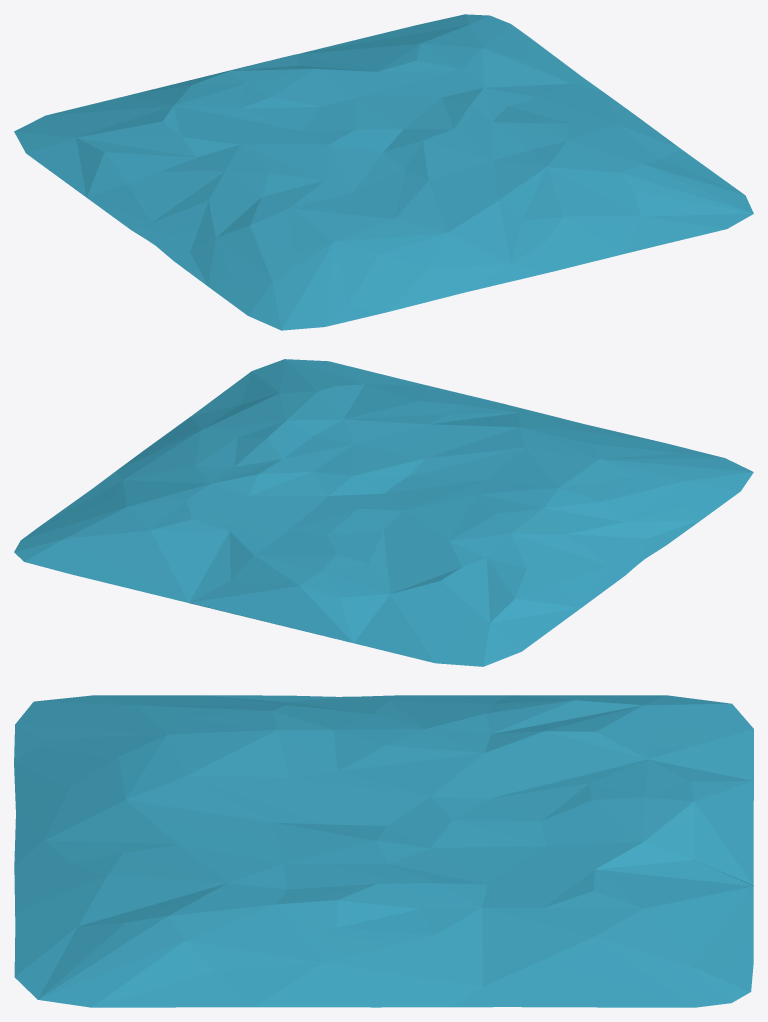
The model's file is SM_Env_Flat_Sand_01.glb.
The picture shows the model from 3 angles, top to bottom: view 1: azimuth 30°, elevation 25°; view 2: azimuth 150°, elevation 25°; view 3: azimuth 270°, elevation 25°; orthographic projection. The views are drawn at different scales.
Parts seen in each view (by area): view 1: SM_Env_Flat_Sand_01; view 2: SM_Env_Flat_Sand_01; view 3: SM_Env_Flat_Sand_01.
Boxes of the visible parts, box(x1,y1,x2,y2) form: SM_Env_Flat_Sand_01: box(14, 14, 753, 330); SM_Env_Flat_Sand_01: box(14, 359, 753, 666); SM_Env_Flat_Sand_01: box(14, 695, 753, 1007).
Bounding box in the file's own units: 0.0754 × 0.00425 × 0.0754.
